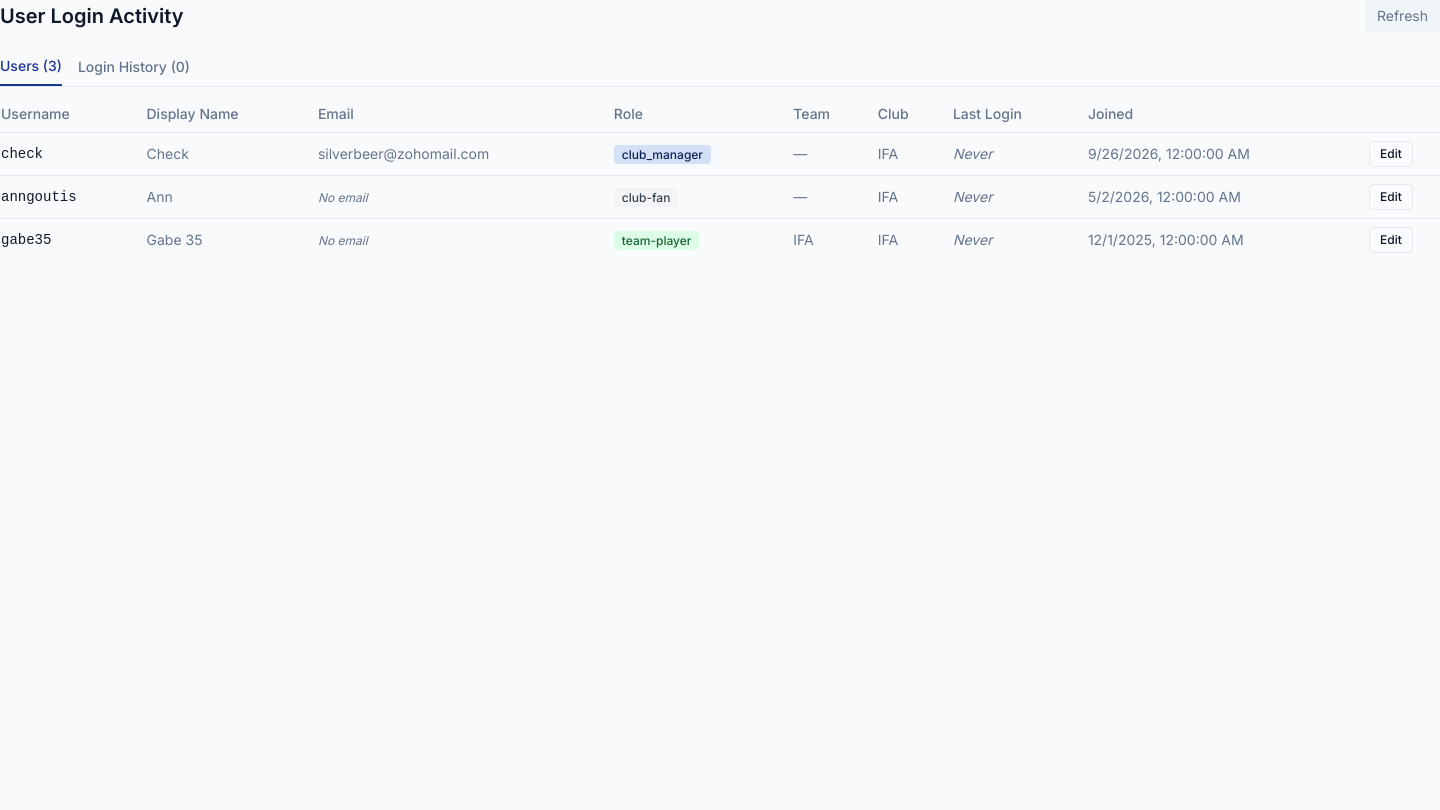
AdminUsers — deleting an account (SB-1132) › says what else will be destroyed, with counts
What coordinates should you click on to do the following:
click the button "Edit" in the row of "anngoutis"
I would click on:
 (1391, 197)
Its box is [1369,184,1413,210].
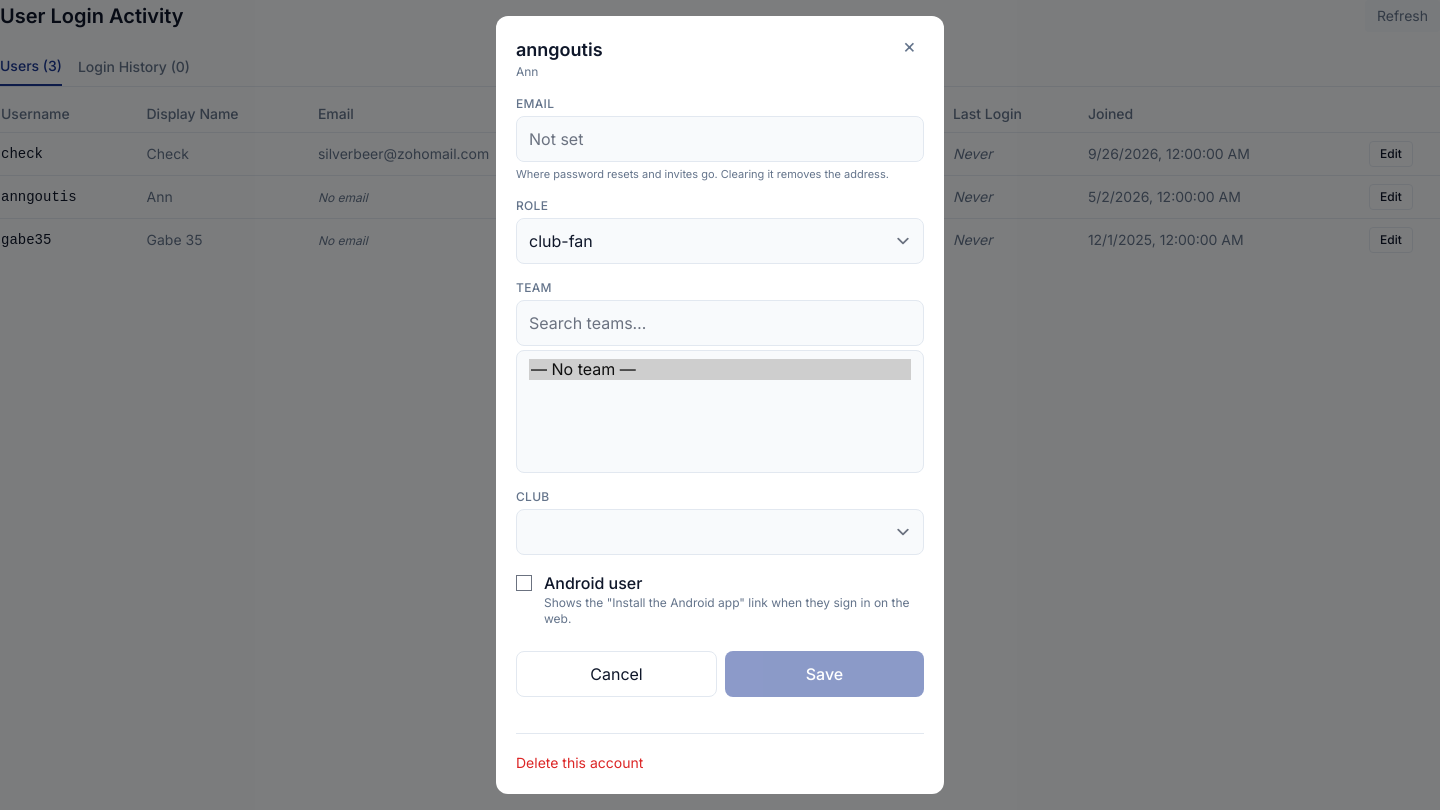
What coordinates should you click on to do the following:
click the button with test id "delete-user"
I would click on:
 (580, 763)
Its box is [516,753,643,773].
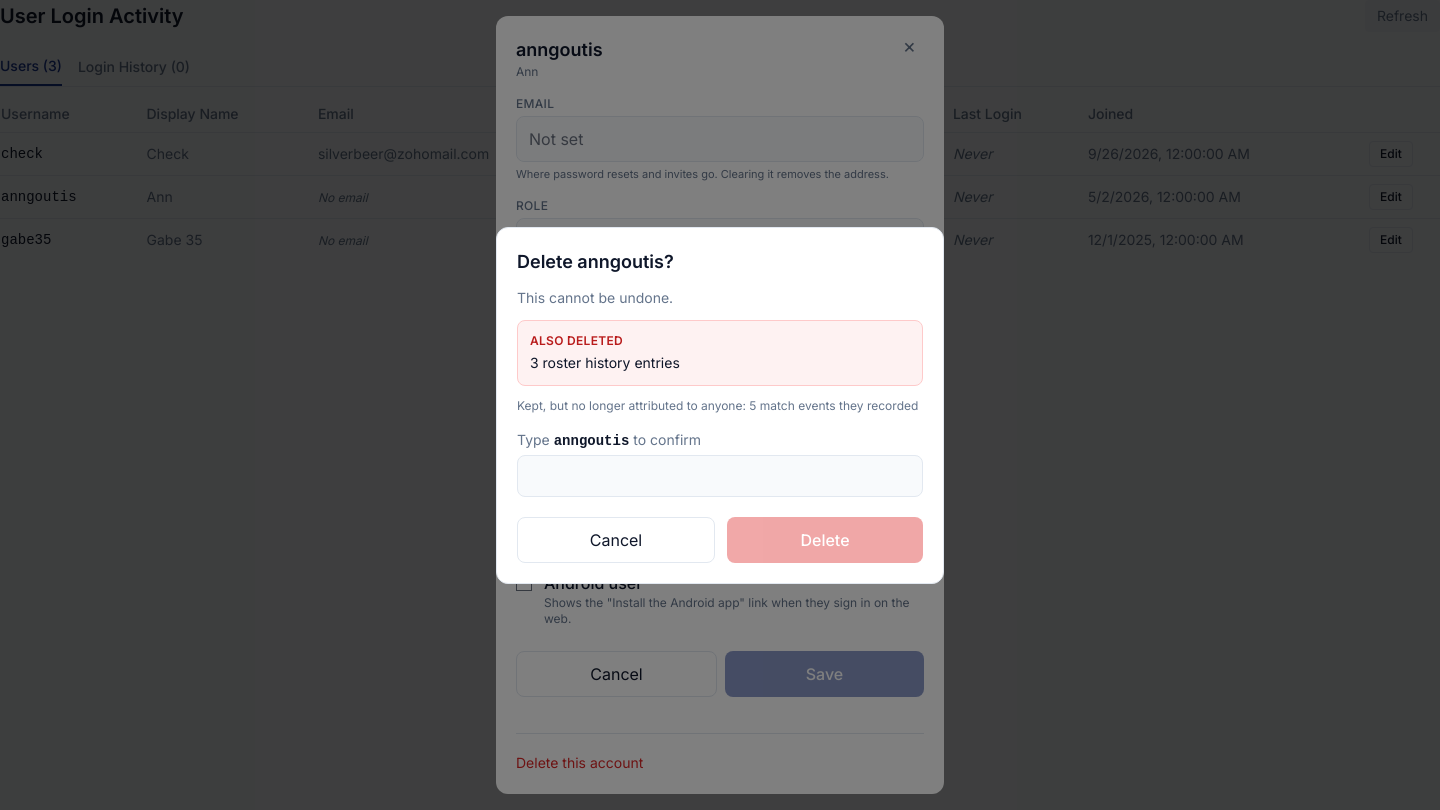
Expected: the element with test id "delete-destroys" is shown, [517,320,923,386]
Expected: the element with test id "delete-destroys" shows "3", [530,354,680,370]
Expected: the element with test id "delete-destroys" shows "roster history entries", [530,354,680,370]
